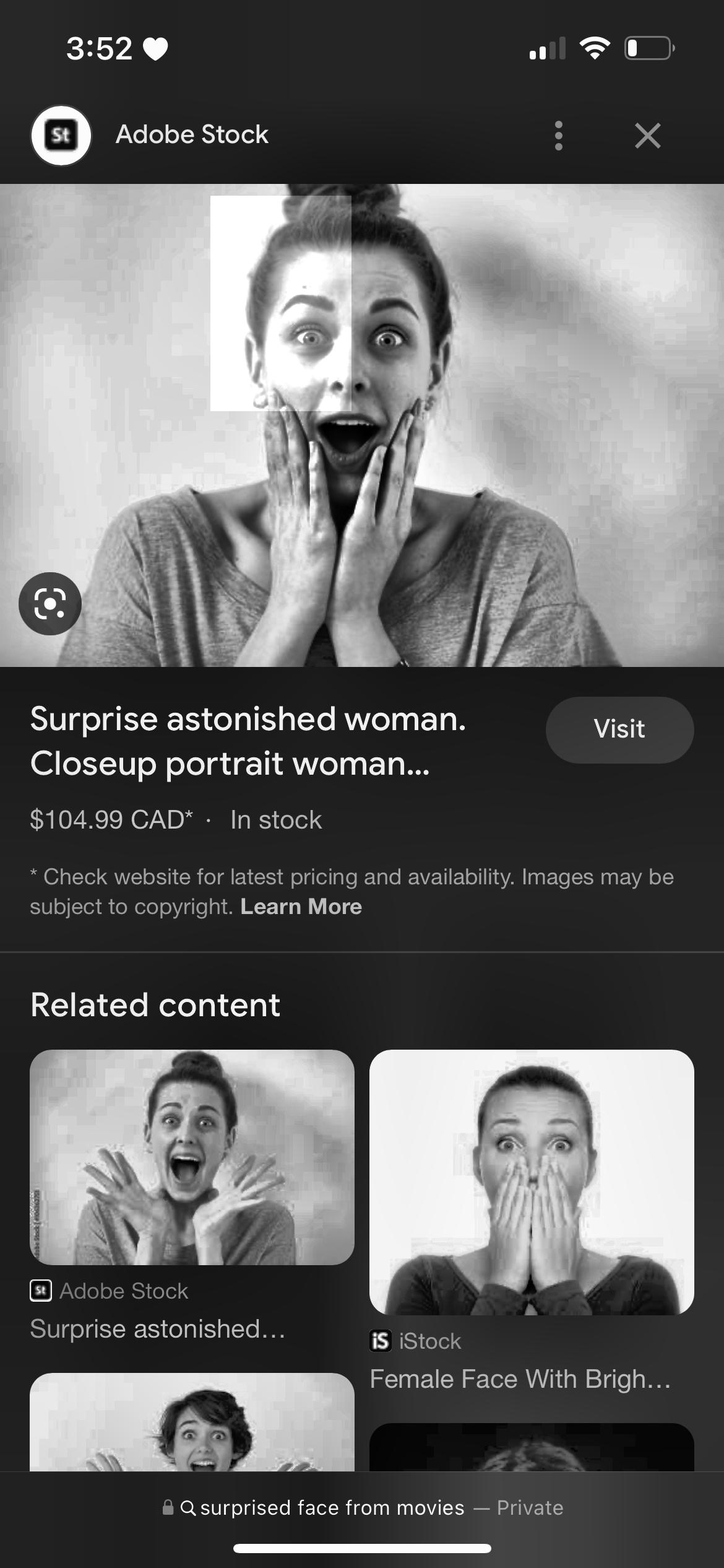surprised: (260, 242, 435, 509)
